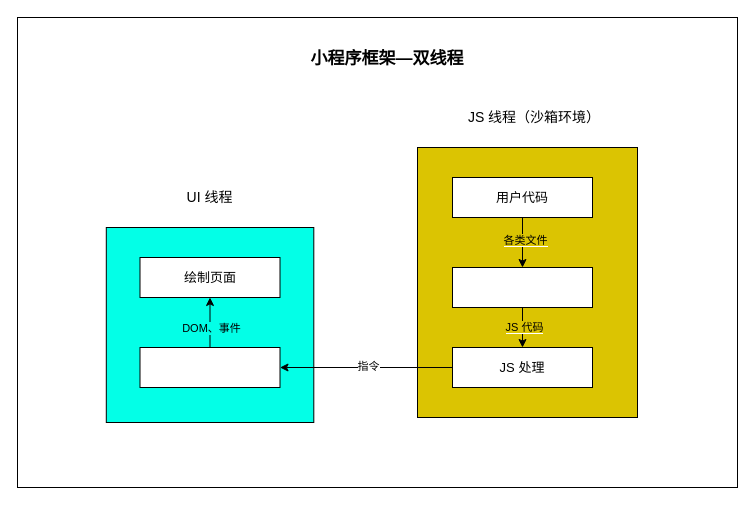
Some shapes in this 755 by 505 pixel diagram are drawn without their labels. Here are the shapes that lost their labels. From the top down, the centre of each, then its label:
At point 522,287: "loader 解析".
At point 209,367: "解析指令".
